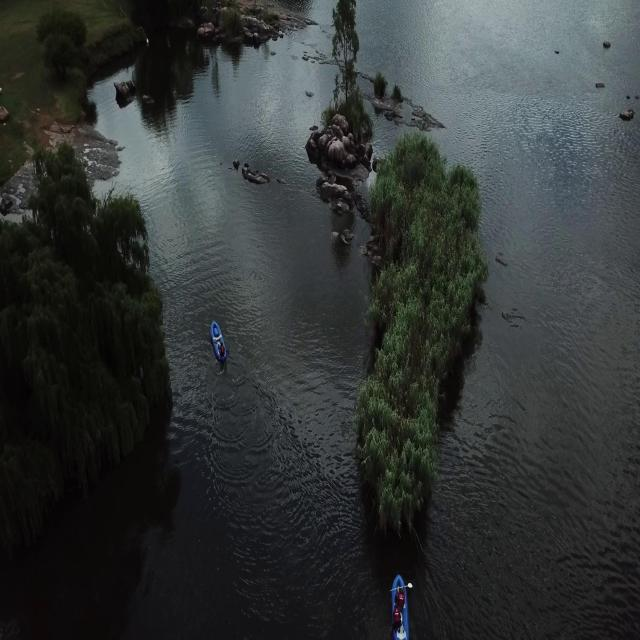kayak: (388, 572, 412, 640), (208, 318, 229, 369)
